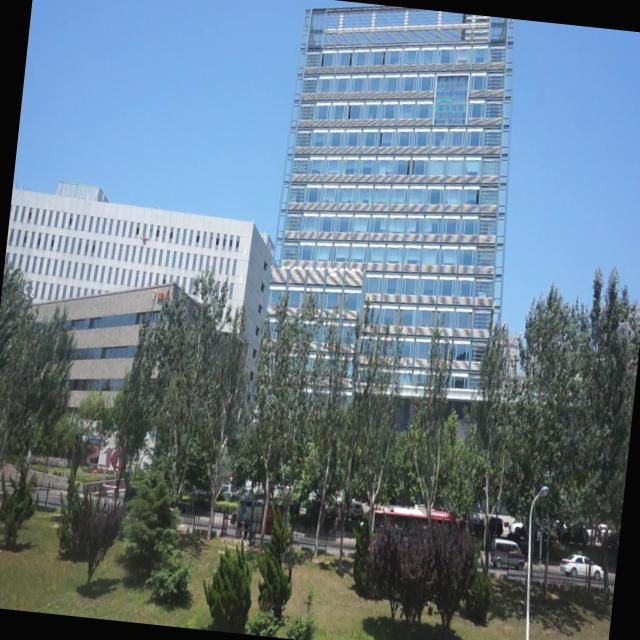drone: (138, 232, 150, 248)
